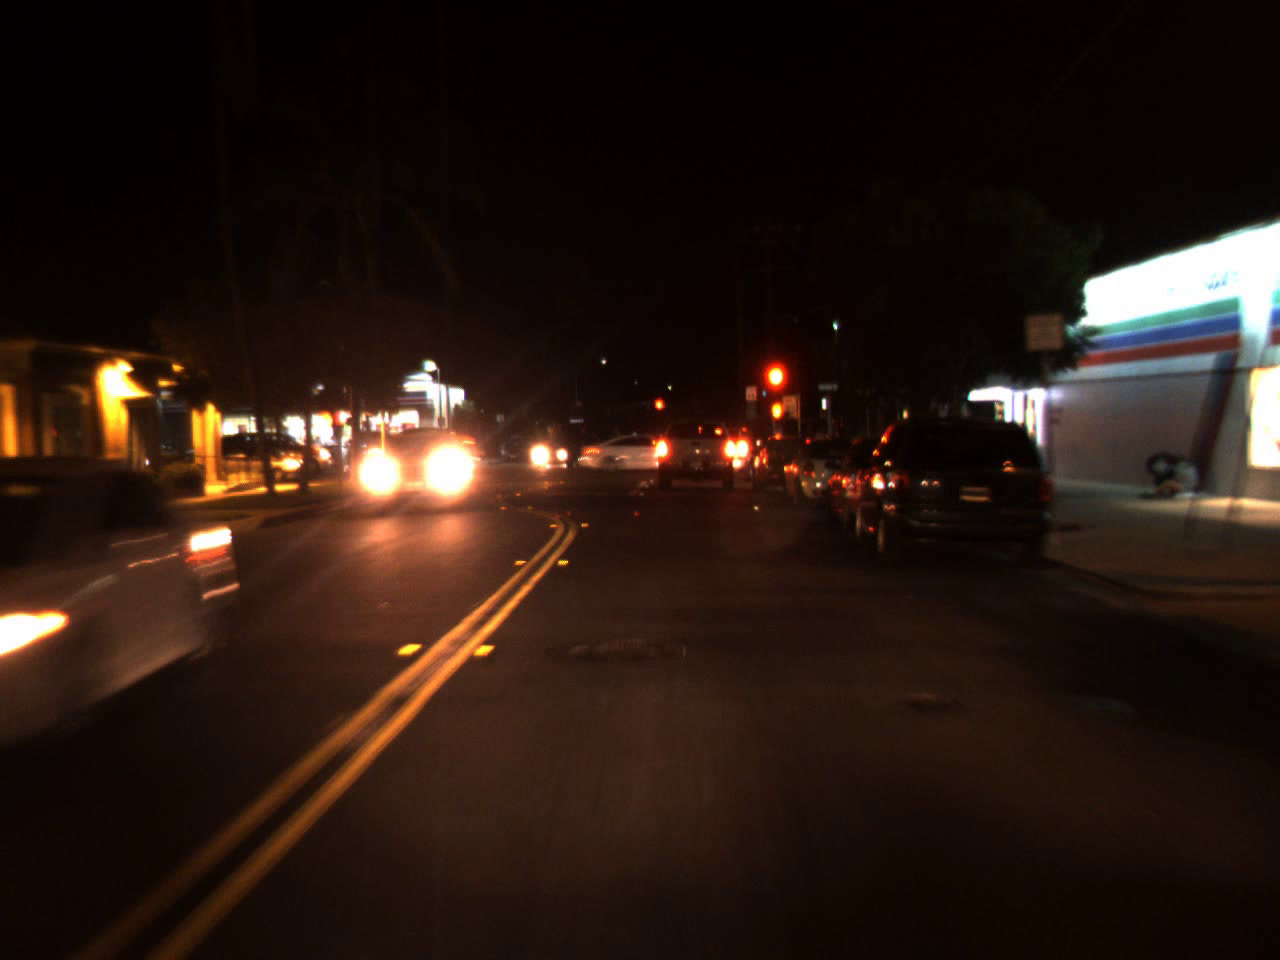stop: (758, 356, 794, 428), (654, 397, 666, 424)
